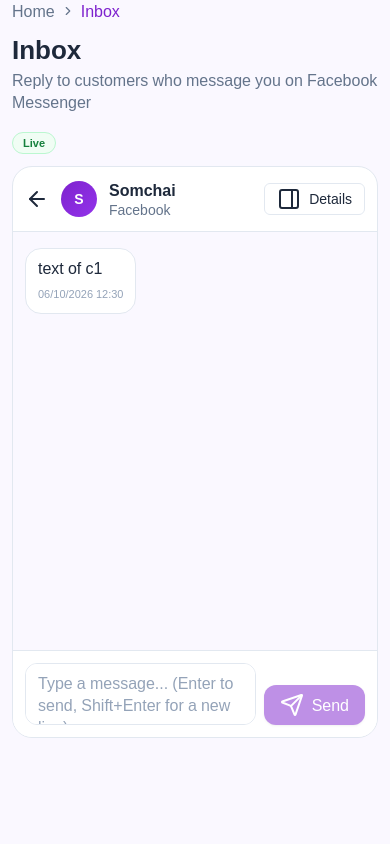
Test: InboxPage › ຈໍແຄບ: Details ເປີດ dialog ທີ່ມີ SidePanel ດຽວ (ບໍ່ມີ aside), ຫົວຂໍ້ດຽວ
The image size is (390, 844).
Expected: the element named "Conversation messages" is shown, [13,232,377,650]
Expected: the heading "Conversation details" is not shown
What coordinates should you click on to do the following:
click the button "Details"
I would click on:
 (315, 199)
Its box is [264,183,365,215].
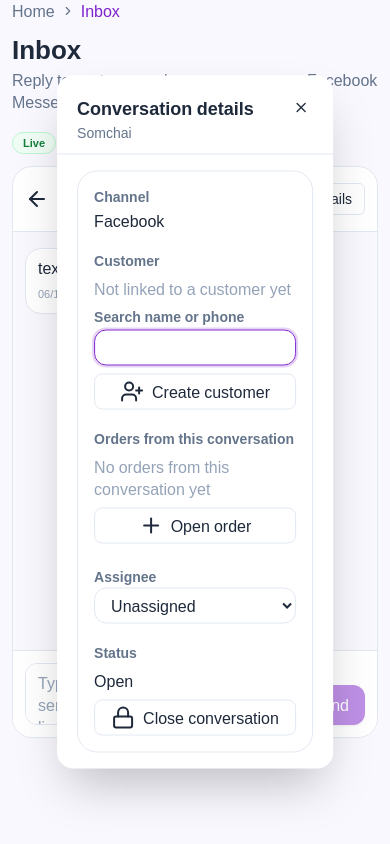
Expected: the number of headings "Conversation details" is 1, [77,94,254,122]
Expected: the number of headings "Channel" is 1, [94,184,149,208]
